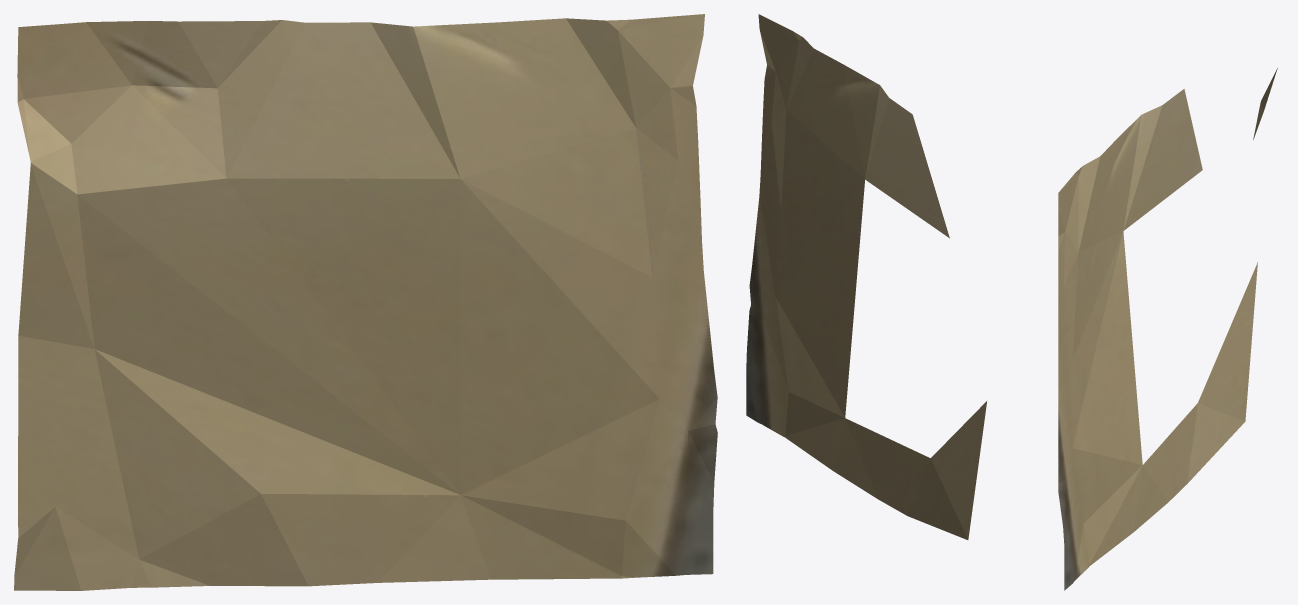
3 renders of one model, left to right at view 1: azimuth 30°, elevation 25°; view 2: azimuth 150°, elevation 25°; view 3: azimuth 270°, elevation 25°, orthographic. The views are drawn at different scales.
Size of the model in its own units: 0.8373 by 0.8374 by 0.4352.
Materials: 3 (3 with a texture image).
